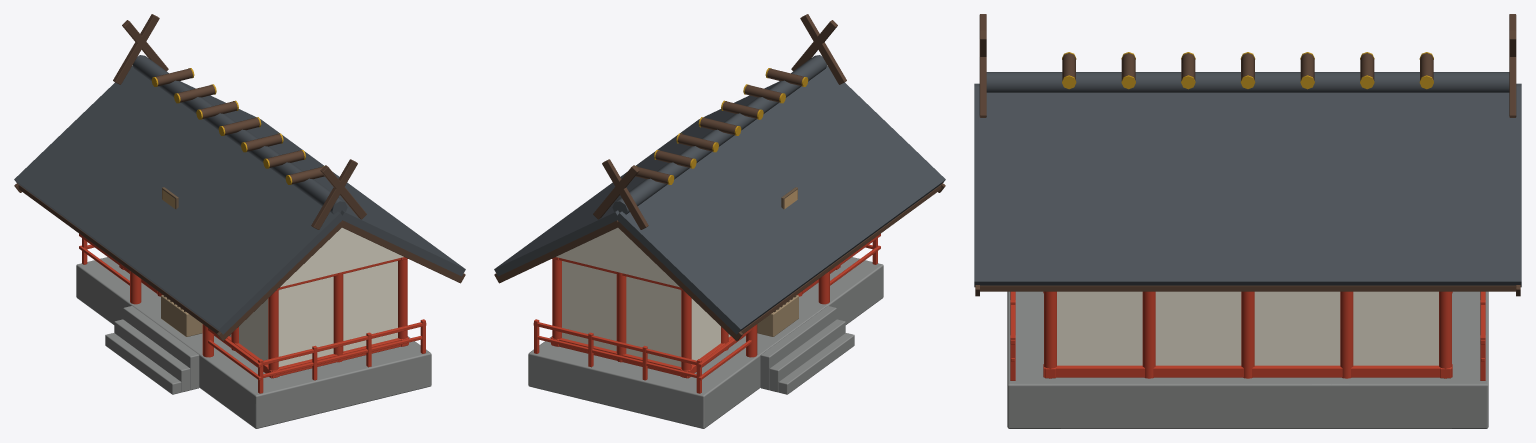
File: village-shrine.glb
3 renders of one model, left to right at view 1: azimuth 30°, elevation 25°; view 2: azimuth 150°, elevation 25°; view 3: azimuth 270°, elevation 25°, orthographic. The views are drawn at different scales.
Visible parts, largest first — view 1: cell-0-2:village-roof, cell-0-0:village-roof, cell-0-1:village-roof, cell-1-2:village-plaster, cell-0-2:village-stone, cell-1-2:village-stone, cell-0-1:village-stone, cell-0-2:village-plaster, cell-1-2:village-vermilion, cell-0-2:village-vermilion, cell-0-0:village-stone, cell-1-2:village-roof (+10 smaller); view 2: cell-0-0:village-roof, cell-0-2:village-roof, cell-0-1:village-roof, cell-1-0:village-plaster, cell-0-0:village-stone, cell-1-0:village-stone, cell-0-1:village-stone, cell-0-0:village-plaster, cell-1-0:village-vermilion, cell-0-0:village-vermilion, cell-0-2:village-stone, cell-1-0:village-roof (+10 smaller); view 3: cell-1-0:village-roof, cell-1-2:village-roof, cell-1-1:village-roof, cell-1-1:village-plaster, cell-1-0:village-stone, cell-1-2:village-stone, cell-1-1:village-stone, cell-1-0:village-plaster, cell-1-2:village-plaster, cell-1-0:village-vermilion, cell-1-2:village-vermilion, cell-1-1:village-vermilion (+6 smaller).
Boxes of the visible parts, x1=… form: cell-0-2:village-roof: x1=148, y1=151, x2=342, y2=334; cell-0-0:village-roof: x1=14, y1=55, x2=208, y2=234; cell-0-1:village-roof: x1=85, y1=105, x2=270, y2=280; cell-1-2:village-plaster: x1=314, y1=227, x2=403, y2=357; cell-0-2:village-stone: x1=169, y1=345, x2=329, y2=428; cell-1-2:village-stone: x1=317, y1=336, x2=431, y2=410; cell-0-1:village-stone: x1=107, y1=301, x2=226, y2=392; cell-0-2:village-plaster: x1=230, y1=246, x2=322, y2=366; cell-1-2:village-vermilion: x1=316, y1=257, x2=426, y2=367; cell-0-2:village-vermilion: x1=202, y1=278, x2=328, y2=393; cell-0-0:village-stone: x1=76, y1=257, x2=160, y2=346; cell-1-2:village-roof: x1=272, y1=151, x2=465, y2=276; cell-0-0:village-roof: x1=617, y1=151, x2=811, y2=334; cell-0-2:village-roof: x1=751, y1=55, x2=945, y2=234; cell-0-1:village-roof: x1=689, y1=105, x2=874, y2=280; cell-1-0:village-plaster: x1=556, y1=227, x2=645, y2=357; cell-0-0:village-stone: x1=630, y1=345, x2=790, y2=428; cell-1-0:village-stone: x1=528, y1=336, x2=642, y2=410; cell-0-1:village-stone: x1=733, y1=301, x2=852, y2=392; cell-0-0:village-plaster: x1=637, y1=246, x2=729, y2=366; cell-1-0:village-vermilion: x1=533, y1=257, x2=643, y2=367; cell-0-0:village-vermilion: x1=631, y1=278, x2=757, y2=393; cell-0-2:village-stone: x1=799, y1=257, x2=883, y2=346; cell-1-0:village-roof: x1=494, y1=151, x2=687, y2=276; cell-1-0:village-roof: x1=1331, y1=72, x2=1521, y2=287; cell-1-2:village-roof: x1=974, y1=72, x2=1164, y2=287; cell-1-1:village-roof: x1=1164, y1=72, x2=1331, y2=285; cell-1-1:village-plaster: x1=1164, y1=291, x2=1331, y2=365; cell-1-0:village-stone: x1=1331, y1=318, x2=1488, y2=428; cell-1-2:village-stone: x1=1007, y1=318, x2=1164, y2=428; cell-1-1:village-stone: x1=1164, y1=377, x2=1331, y2=428; cell-1-0:village-plaster: x1=1331, y1=291, x2=1438, y2=365; cell-1-2:village-plaster: x1=1057, y1=291, x2=1164, y2=365; cell-1-0:village-vermilion: x1=1331, y1=291, x2=1485, y2=380; cell-1-2:village-vermilion: x1=1010, y1=291, x2=1164, y2=380; cell-1-1:village-vermilion: x1=1164, y1=291, x2=1331, y2=378.
Bounding box in the file's own units: 5.5 × 5.43 × 7.9.
